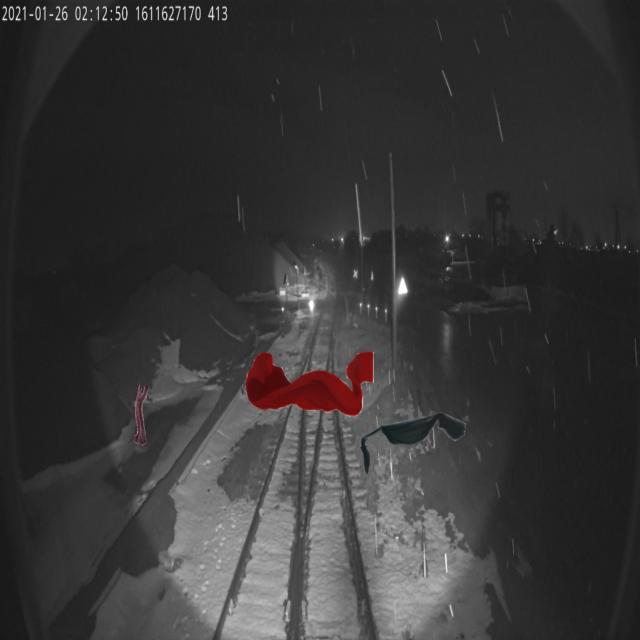floating object: (245, 352, 374, 416), (361, 410, 468, 474), (134, 382, 149, 446)
